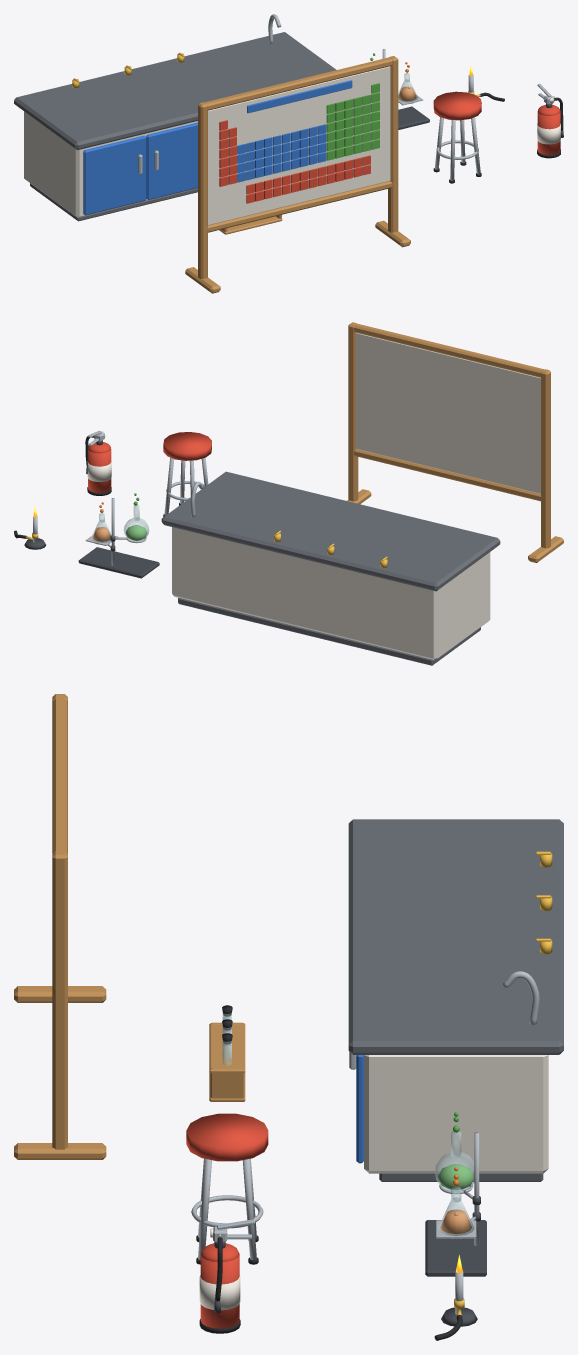
The model's file is school-chemistry-lab-set.glb.
The picture shows the model from 3 angles, top to bottom: view 1: azimuth 30°, elevation 25°; view 2: azimuth 150°, elevation 25°; view 3: azimuth 270°, elevation 25°; orthographic projection. The views are drawn at different scales.
Visible parts, largest first — view 1: LabTable_Top, PeriodicTableChart_Board, LabTable, LabTable_Cabinet, PeriodicTableChart_Tiles_PaintRed, PeriodicTableChart_Tiles_PaintBlue, PeriodicTableChart_Tiles_Foliage, PeriodicTableChart_FrameTop, PeriodicTableChart_Post_L, PeriodicTableChart_Post_R, PeriodicTableChart_FrameBottom, LabStool_Seat (+9 smaller); view 2: LabTable_Cabinet, PeriodicTableChart_Board, LabTable_Top, LabTable_Plinth, PeriodicTableChart_FrameTop, PeriodicTableChart_Post_L, PeriodicTableChart_Post_R, PeriodicTableChart_FrameBottom, FlaskStand_Base, LabStool_Seat, LabStool, FireExtinguisher_Body (+1 smaller); view 3: LabTable_Top, LabTable_Cabinet, PeriodicTableChart_Post_R, LabStool_Seat, FlaskStand_Base, PeriodicTableChart_FrameTop, LabStool, TestTubeRack_Shelf, FireExtinguisher_Body, PeriodicTableChart_Foot_R, LabTable, PeriodicTableChart_Foot_L (+5 smaller).
Part boxes in pixels (x1,y1,x2,y2): LabTable_Top: (14,32,336,149); PeriodicTableChart_Board: (208,66,390,225); LabTable: (72,53,197,215); LabTable_Cabinet: (24,111,197,218); PeriodicTableChart_Tiles_PaintRed: (219,120,370,203); PeriodicTableChart_Tiles_PaintBlue: (237,124,326,182); PeriodicTableChart_Tiles_Foliage: (326,83,379,160); PeriodicTableChart_FrameTop: (204,57,392,110); PeriodicTableChart_Post_L: (198,102,207,278); PeriodicTableChart_Post_R: (388,56,398,232); PeriodicTableChart_FrameBottom: (207,181,392,232); LabStool_Seat: (433,91,481,120); LabTable_Cabinet: (172,527,490,660); PeriodicTableChart_Board: (356,333,540,493); LabTable_Top: (161,471,500,591); LabTable_Plinth: (178,598,480,665); PeriodicTableChart_FrameTop: (354,323,544,377); PeriodicTableChart_Post_L: (541,369,550,548); PeriodicTableChart_Post_R: (348,322,358,501); PeriodicTableChart_FrameBottom: (354,449,541,501); FlaskStand_Base: (78,547,159,578); LabStool_Seat: (163,432,211,460); LabStool: (163,457,208,516); FireExtinguisher_Body: (88,449,111,492); LabTable_Top: (348,819,563,1054); LabTable_Cabinet: (364,1055,548,1173); PeriodicTableChart_Post_R: (52,851,67,1149); LabStool_Seat: (186,1113,268,1161); FlaskStand_Base: (425,1220,486,1276); PeriodicTableChart_FrameTop: (53,698,66,852); LabStool: (196,1158,258,1264); TestTubeRack_Shelf: (209,1023,245,1073); FireExtinguisher_Body: (200,1254,239,1328); PeriodicTableChart_Foot_R: (14,1143,106,1159); LabTable: (356,854,552,1163); PeriodicTableChart_Foot_L: (14,986,106,1002).
Bounding box in the file's own units: 17.32 × 6.55 × 10.72.
